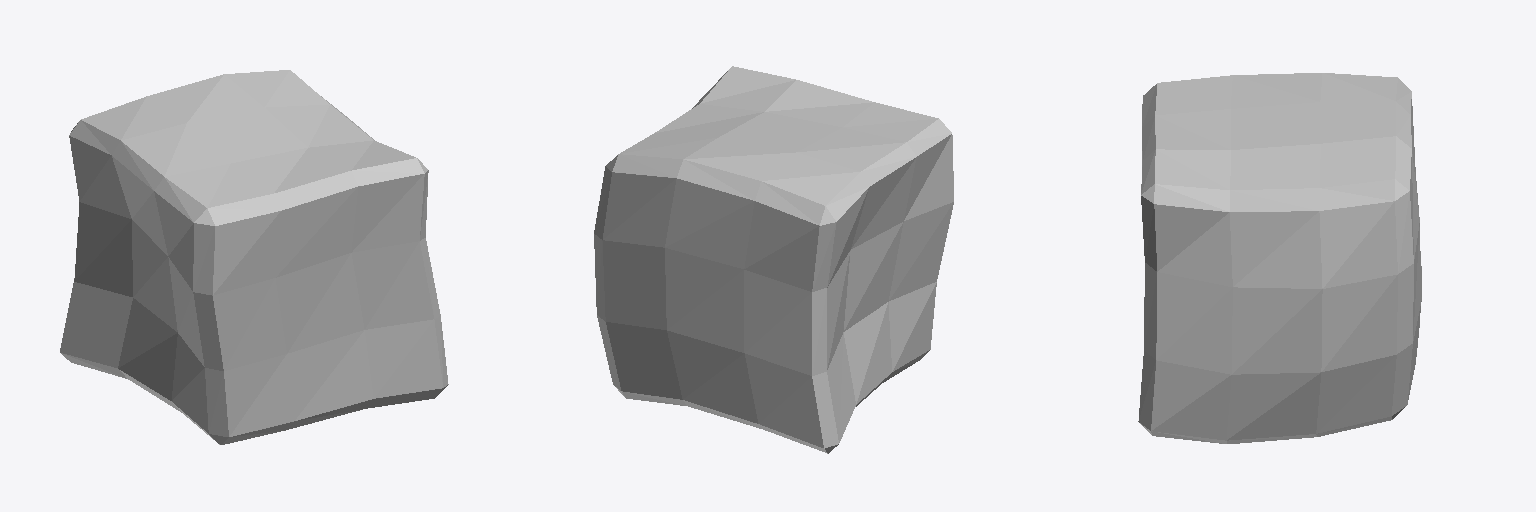
File: Hielo 2.obj
3 views of the same model, side by side, from view 1: azimuth 30°, elevation 25°; view 2: azimuth 150°, elevation 25°; view 3: azimuth 270°, elevation 25° (orthographic).
Visible parts, largest first — view 1: Object006; view 2: Object006; view 3: Object006.
Part boxes in pixels (x1,y1,x2,y2): Object006: (60,70,448,444); Object006: (594,66,953,453); Object006: (1138,73,1421,443).
Bounding box in the file's own units: 45.23 × 42.85 × 41.43.